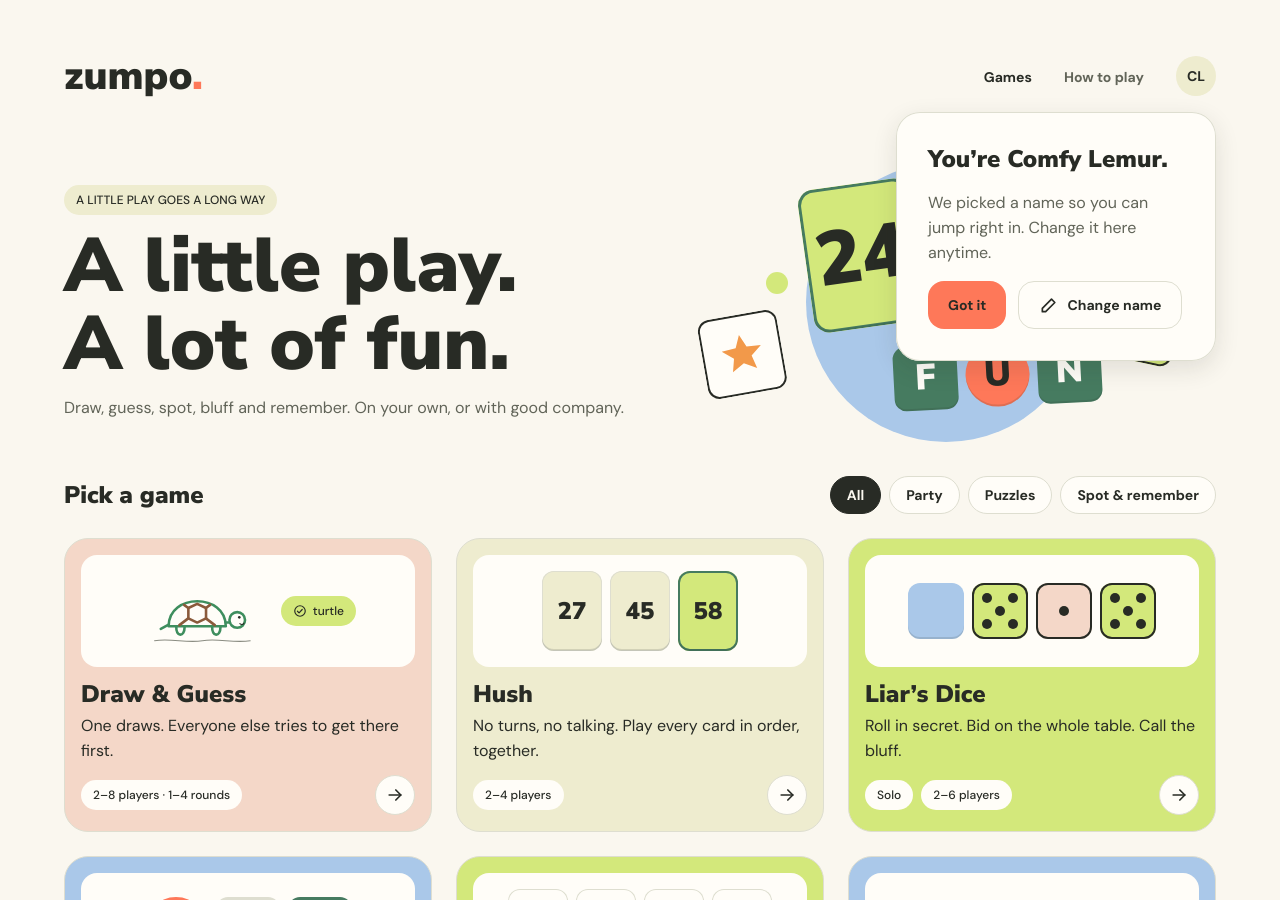
a name › can be changed from the introduction
Click the button "Change name".
click(1100, 305)  # box x1=1018 y1=281 x2=1182 y2=329
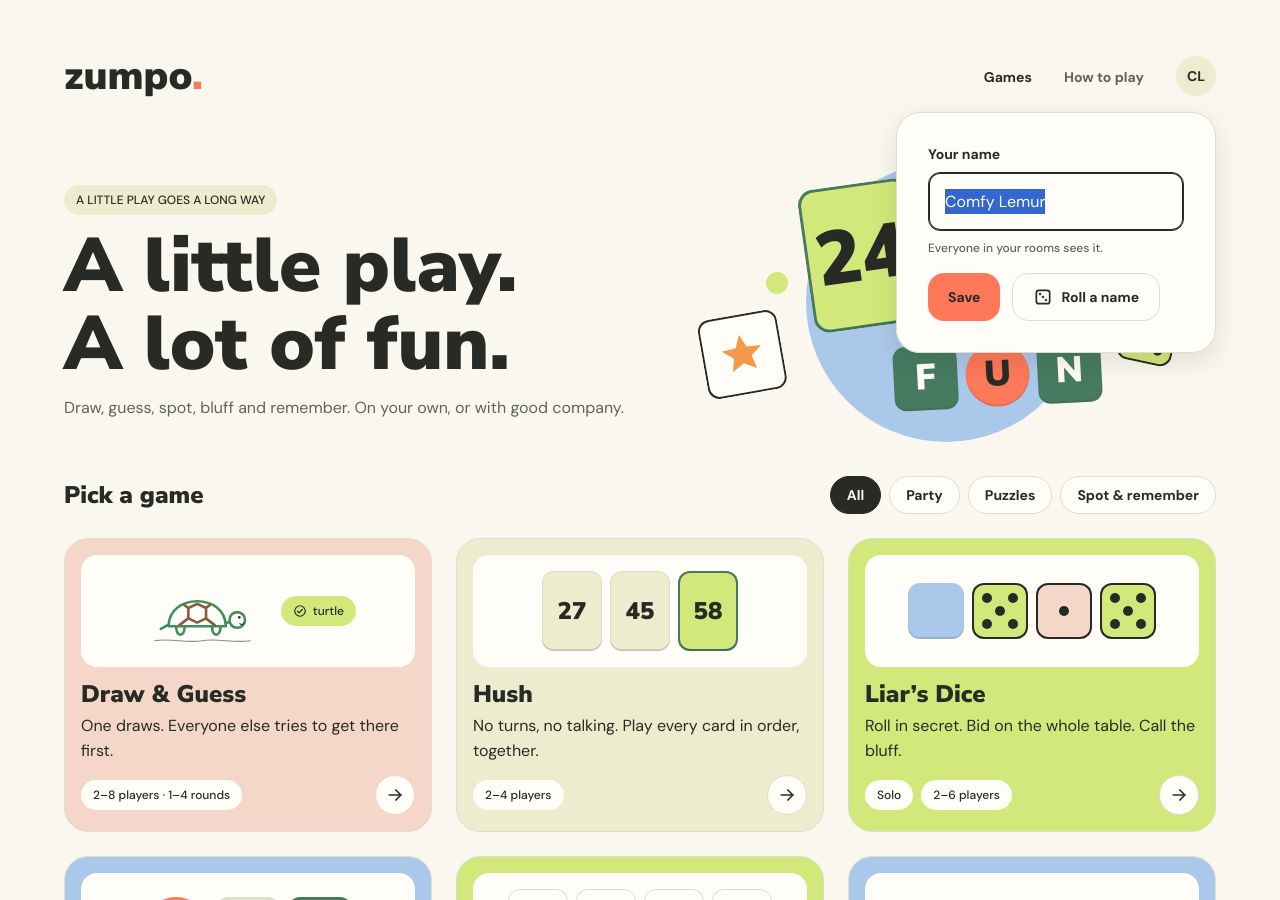
Expected: the dialog "Your name" is shown, x1=896 y1=112 x2=1216 y2=353
